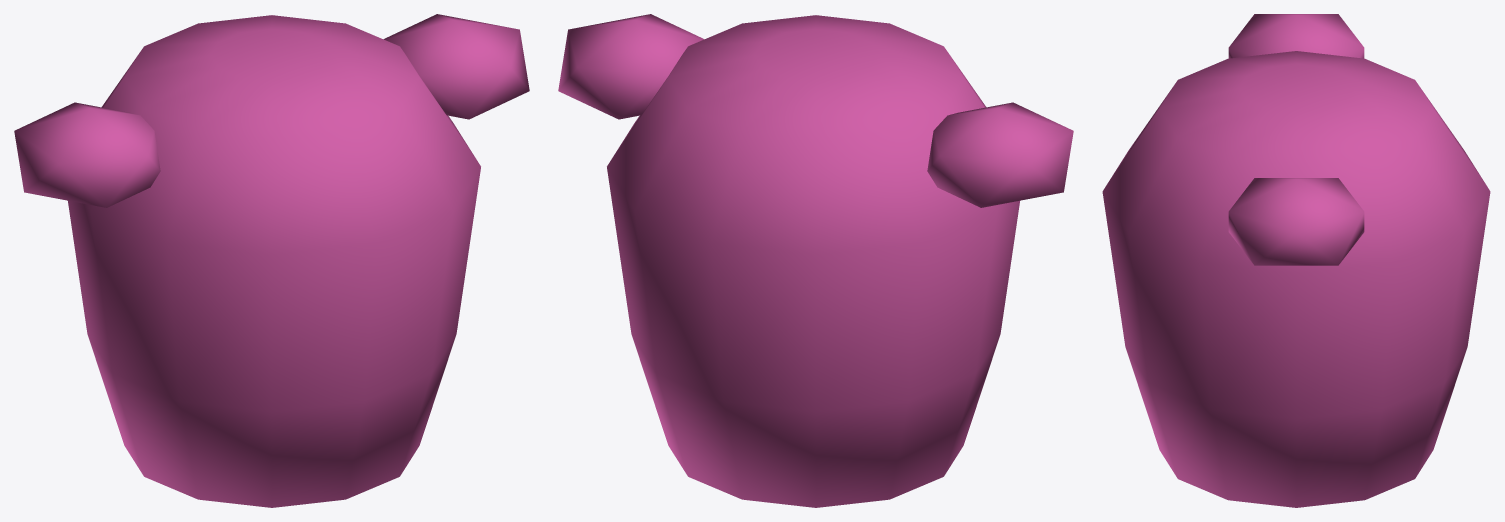
The model's file is orichalcum_chainmail.glb.
The picture shows the model from 3 angles, left to right: view 1: azimuth 30°, elevation 25°; view 2: azimuth 150°, elevation 25°; view 3: azimuth 270°, elevation 25°; orthographic projection. The views are drawn at different scales.
Parts seen in each view (by area): view 1: orichalcum_chainmail_v0; view 2: orichalcum_chainmail_v0; view 3: orichalcum_chainmail_v0.
Boxes of the visible parts, box(x1,y1,x2,y2) form: orichalcum_chainmail_v0: box(14, 14, 529, 507); orichalcum_chainmail_v0: box(558, 14, 1073, 507); orichalcum_chainmail_v0: box(1102, 14, 1490, 507).
Bounding box in the file's own units: 0.4652 × 0.35 × 0.34.
